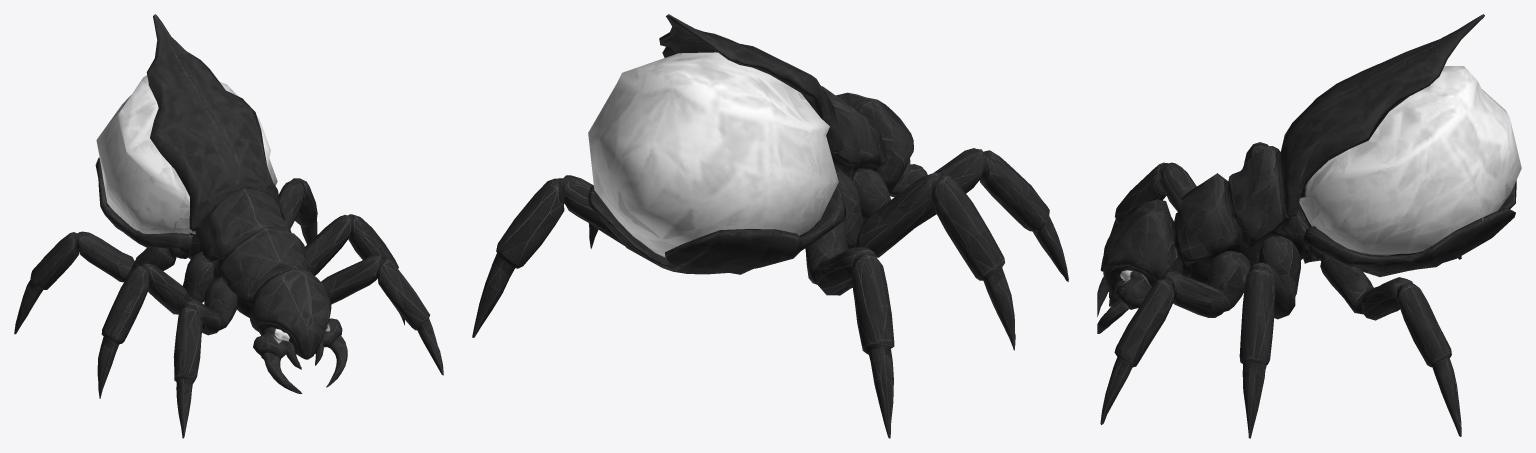
File: spitter.glb
The picture shows the model from 3 angles, left to right: view 1: azimuth 30°, elevation 25°; view 2: azimuth 150°, elevation 25°; view 3: azimuth 270°, elevation 25°; orthographic projection. The views are drawn at different scales.
Size of the model in its own units: 1 by 0.871 by 1.
Materials: 1 (1 with a texture image).
